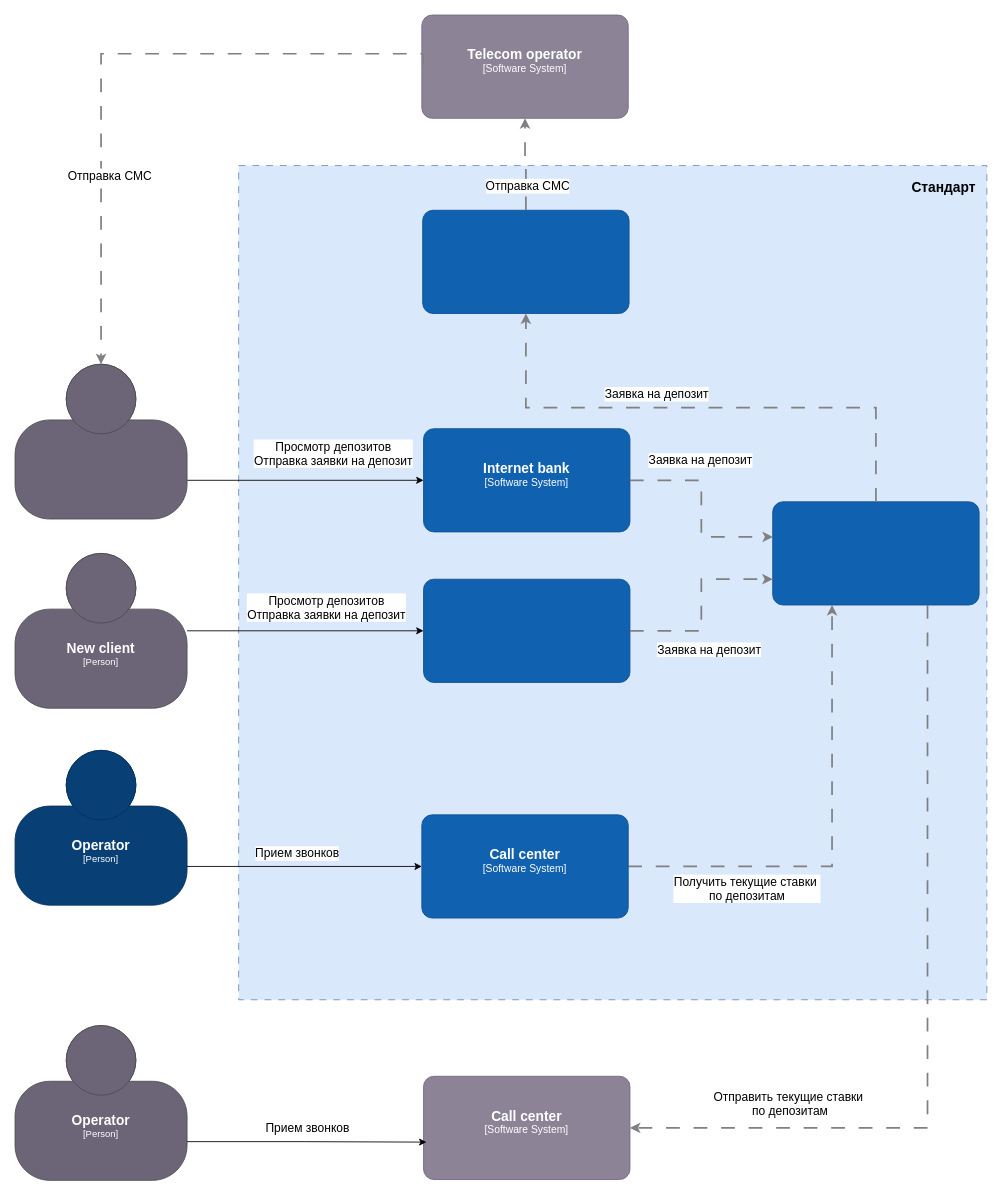
This 1002x1195 diagram has some shape labels left out. Here are the shapes that lost their labels. From the top down, the centre of each, then its label:
the point at 525,261: ABS [Software System]
the point at 100,441: Client [Person]
the point at 875,553: Deposit Service [Software System]
the point at 526,630: Site [Software System]
